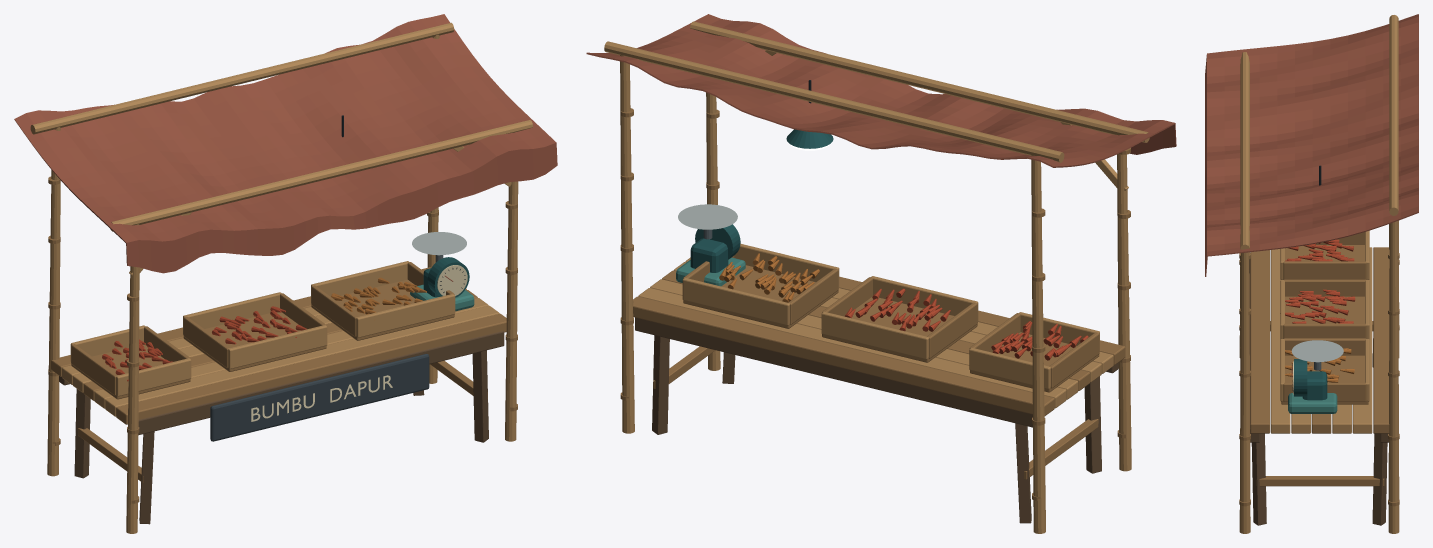
The model's file is LapakBumbu.fbx.
3 views of the same model, side by side, from view 1: azimuth 30°, elevation 25°; view 2: azimuth 150°, elevation 25°; view 3: azimuth 270°, elevation 25° (orthographic). The views are drawn at different scales.
Parts seen in each view (by area): view 1: LapakBumbu; view 2: LapakBumbu; view 3: LapakBumbu.
Boxes of the visible parts, bbox=[...] form: LapakBumbu: bbox=[14, 14, 557, 533]; LapakBumbu: bbox=[586, 14, 1176, 533]; LapakBumbu: bbox=[1205, 14, 1418, 533].
Size of the model in its own units: 343 by 271 by 157.
